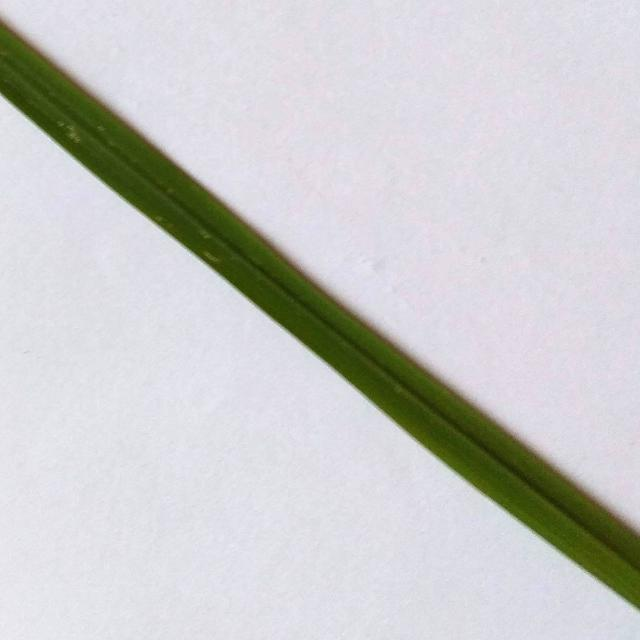Rice_Healthy: (0, 21, 640, 608)
